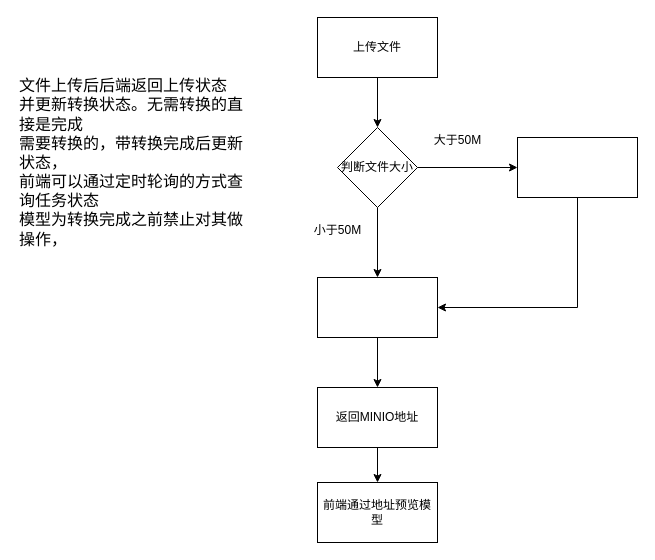
This 655x560 diagram has some shape labels left out. The centre of each missing label's shape, as x and y in pixels:
"上传到MINIO" belongs at (377,307).
"格式转换" belongs at (577,167).
